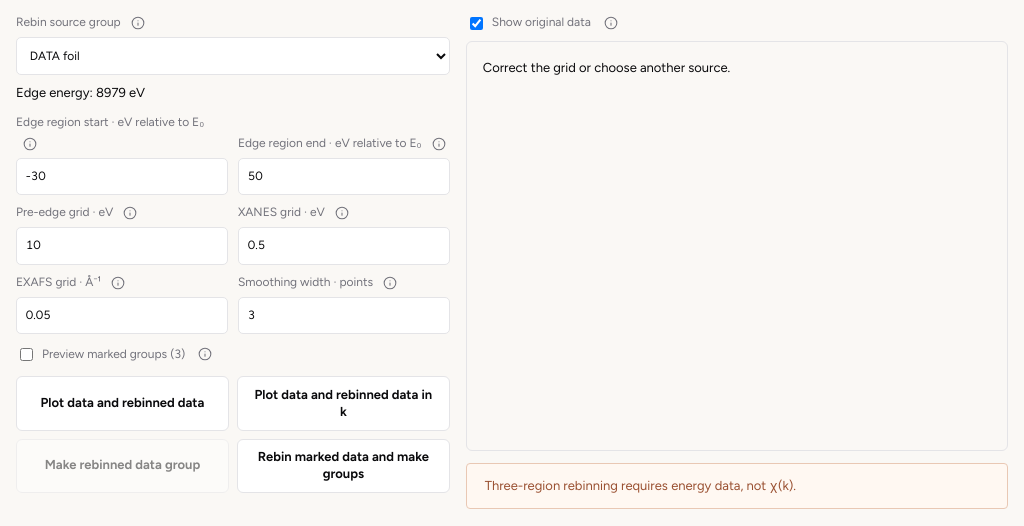
Test: disables creation for chi sources but permits switching to an original
The width and height of the screenshot is (1024, 526).
expect the button "Make rebinned data group" is disabled: met, box [16,439,229,493]
Select "Other scan" in the dropdown labelled "Rebin source group". click: (233, 56)
box: [16,37,450,75]
Wait 180 ms
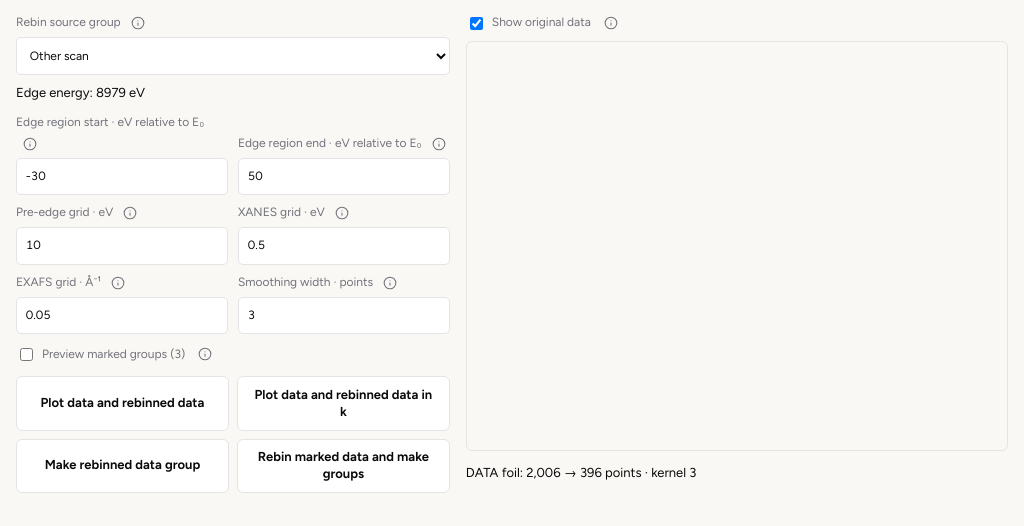
expect the button "Make rebinned data group" is enabled: met, box [16,439,229,493]
